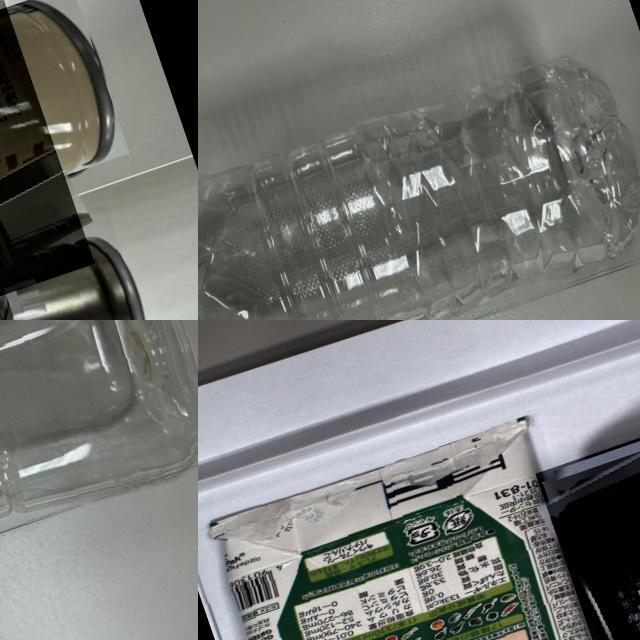Aluminium Foil: (198, 411, 640, 640)
Can: (0, 0, 94, 320), (534, 380, 640, 640), (0, 202, 172, 320)
Transparent Plastic Bottle: (198, 43, 640, 320), (0, 320, 198, 640)
